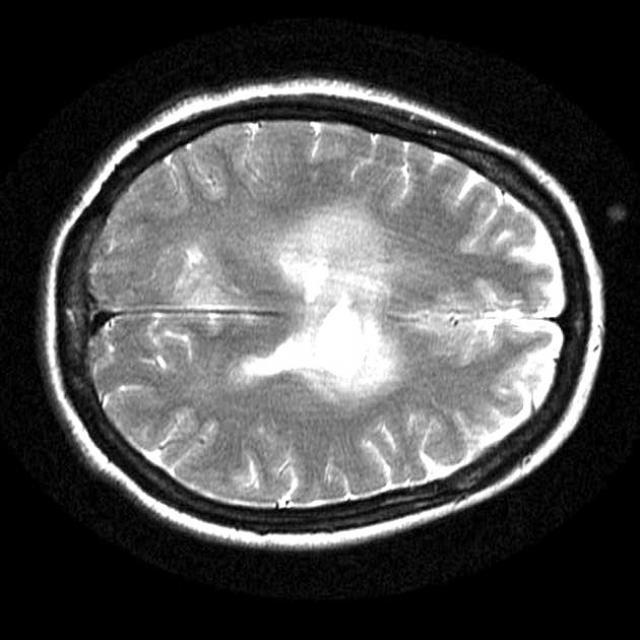tumor: (251, 236, 422, 403)
